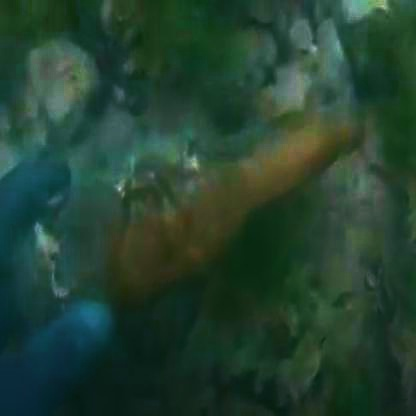gbottle: (88, 105, 382, 298)
